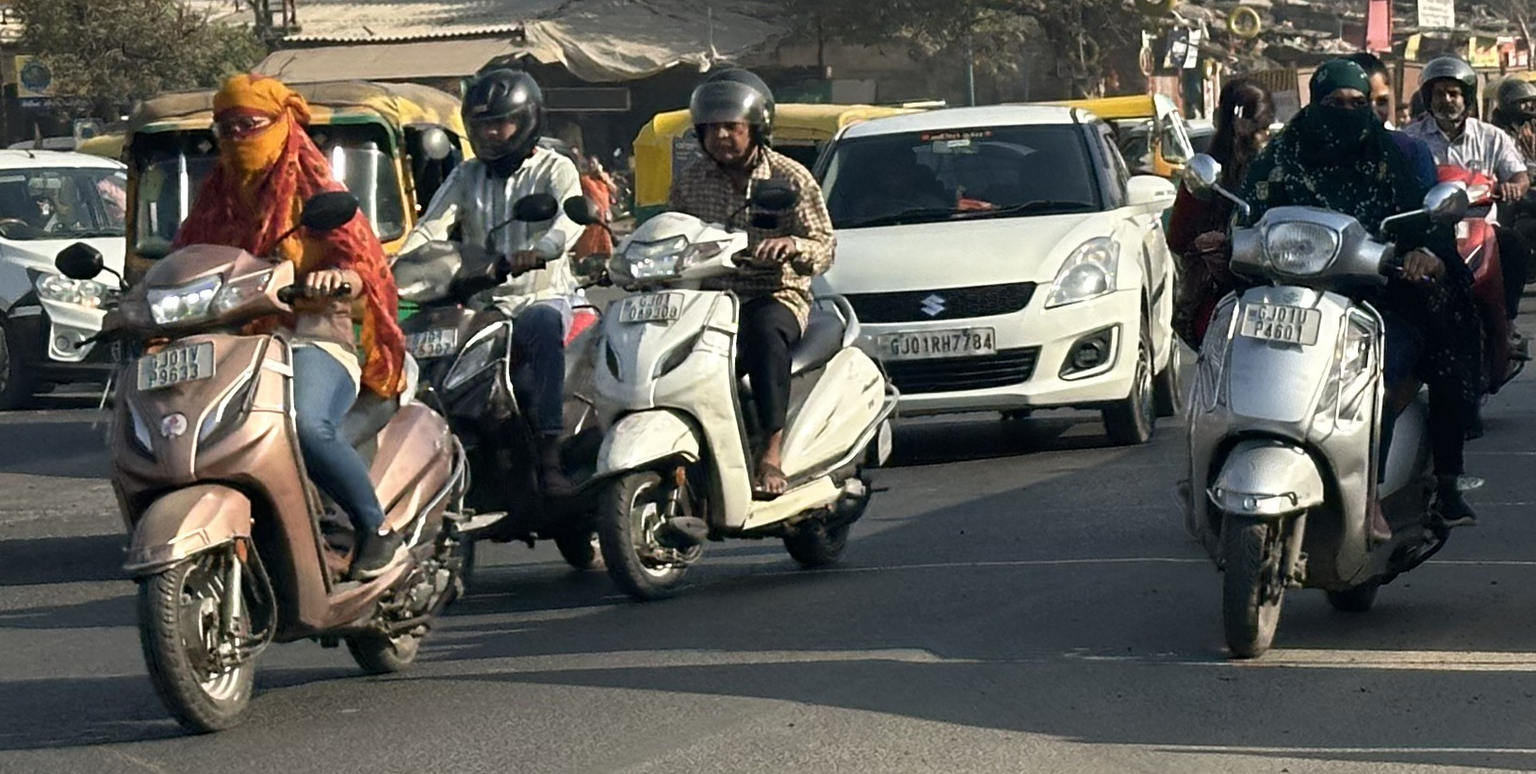BikeWithRider: (57, 44, 489, 739), (1138, 44, 1524, 679), (564, 41, 903, 600), (368, 39, 649, 552)
Helmet: (677, 59, 785, 177), (447, 41, 552, 159), (1410, 44, 1485, 132)
NoHelmet: (200, 57, 314, 192), (1298, 47, 1391, 150)
